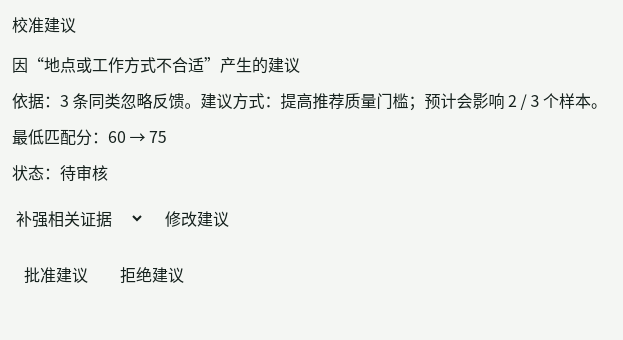
Test case: 展示校准证据、规则差异、影响预览与可访问的成功状态
The width and height of the screenshot is (623, 340).
Expected: the heading "因“地点或工作方式不合适”产生的建议" is shown, [12,52,300,76]
Expected: the text "依据：3 条同类忽略反馈。建议方式：提高推荐质量门槛；预计会影响 2 / 3 个样本。" is shown, [12,88,607,112]
What coordinates should you click on to do the following:
click the button "修改建议"
I would click on:
 (197, 218)
Its box is [153,196,241,240].
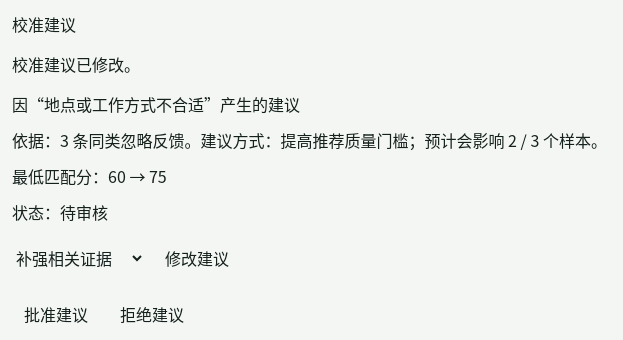
Now the message reads "校准建议已修改。", box [12,52,140,76]
